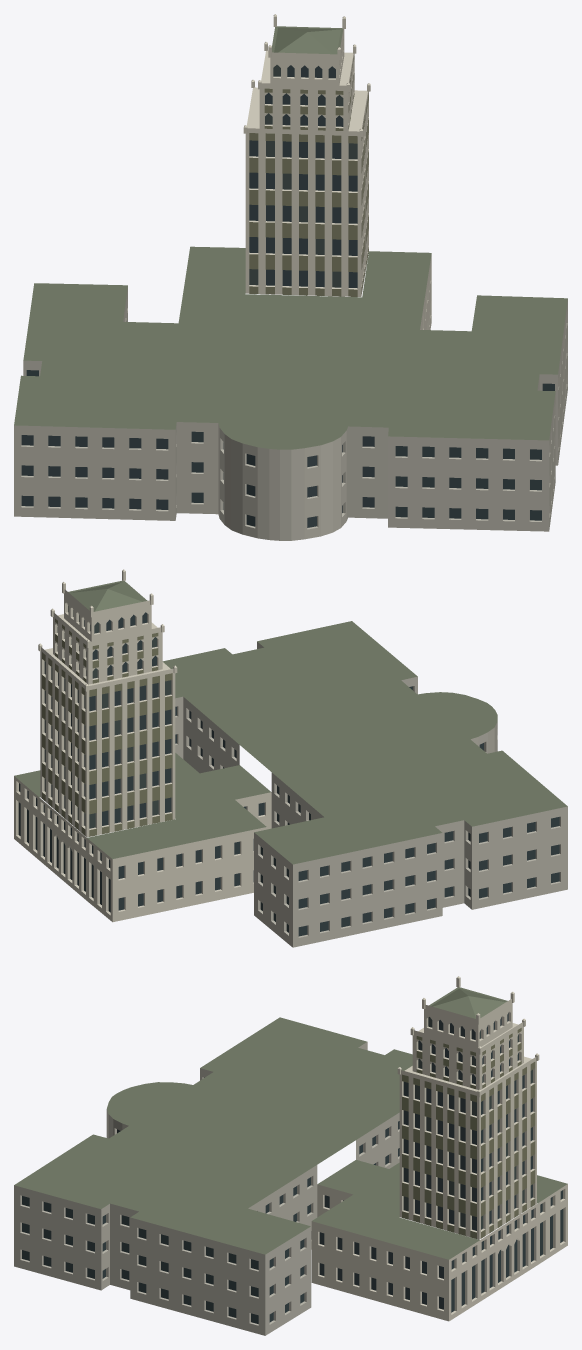
Rendered from atlanta-city-hall-far.glb.
3 renders of one model, top to bottom at view 1: azimuth 30°, elevation 25°; view 2: azimuth 150°, elevation 25°; view 3: azimuth 270°, elevation 25°, orthographic. The views are drawn at different scales.
Parts seen in each view (by area): view 1: atlanta-city-hall-0-roof, atlanta-city-hall-0-marble, atlanta-city-hall-0-stone, atlanta-city-hall-0-glass, atlanta-city-hall-0-spandrel, atlanta-city-hall-0-light; view 2: atlanta-city-hall-0-roof, atlanta-city-hall-0-stone, atlanta-city-hall-0-marble, atlanta-city-hall-0-glass, atlanta-city-hall-0-spandrel, atlanta-city-hall-0-light; view 3: atlanta-city-hall-0-roof, atlanta-city-hall-0-stone, atlanta-city-hall-0-marble, atlanta-city-hall-0-glass, atlanta-city-hall-0-spandrel, atlanta-city-hall-0-light.
Boxes of the visible parts, x1,y1,x2,y2 form: atlanta-city-hall-0-roof: [14, 26, 567, 449]; atlanta-city-hall-0-marble: [14, 287, 567, 540]; atlanta-city-hall-0-stone: [243, 14, 431, 329]; atlanta-city-hall-0-glass: [21, 65, 554, 527]; atlanta-city-hall-0-spandrel: [249, 56, 368, 296]; atlanta-city-hall-0-light: [249, 65, 357, 287]; atlanta-city-hall-0-roof: [14, 580, 567, 864]; atlanta-city-hall-0-stone: [14, 569, 271, 922]; atlanta-city-hall-0-marble: [175, 642, 567, 947]; atlanta-city-hall-0-glass: [18, 610, 559, 936]; atlanta-city-hall-0-spandrel: [42, 618, 172, 836]; atlanta-city-hall-0-light: [44, 606, 171, 828]; atlanta-city-hall-0-roof: [14, 987, 567, 1259]; atlanta-city-hall-0-stone: [311, 976, 567, 1321]; atlanta-city-hall-0-marble: [14, 1042, 399, 1335]; atlanta-city-hall-0-glass: [22, 1013, 563, 1323]; atlanta-city-hall-0-spandrel: [402, 1028, 535, 1238]; atlanta-city-hall-0-light: [403, 1017, 532, 1229].
Size of the model in its own units: 122 by 66.6 by 120.
